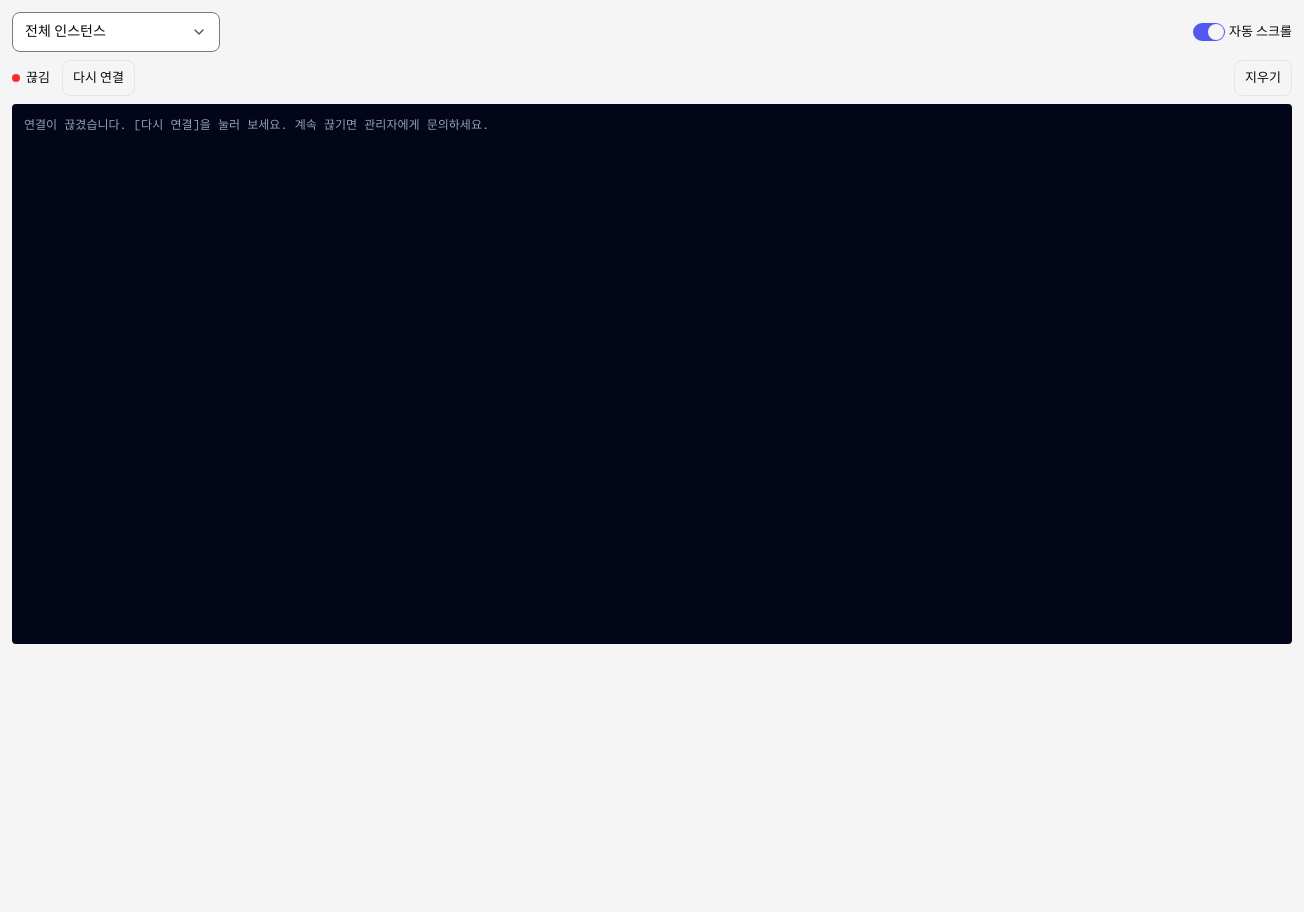
Test: LogsPanel reconnect › opens a fresh stream when the reader reconnects after a drop
Step 1. Click the button "다시 연결" → (98, 78), box [62, 60, 135, 96]
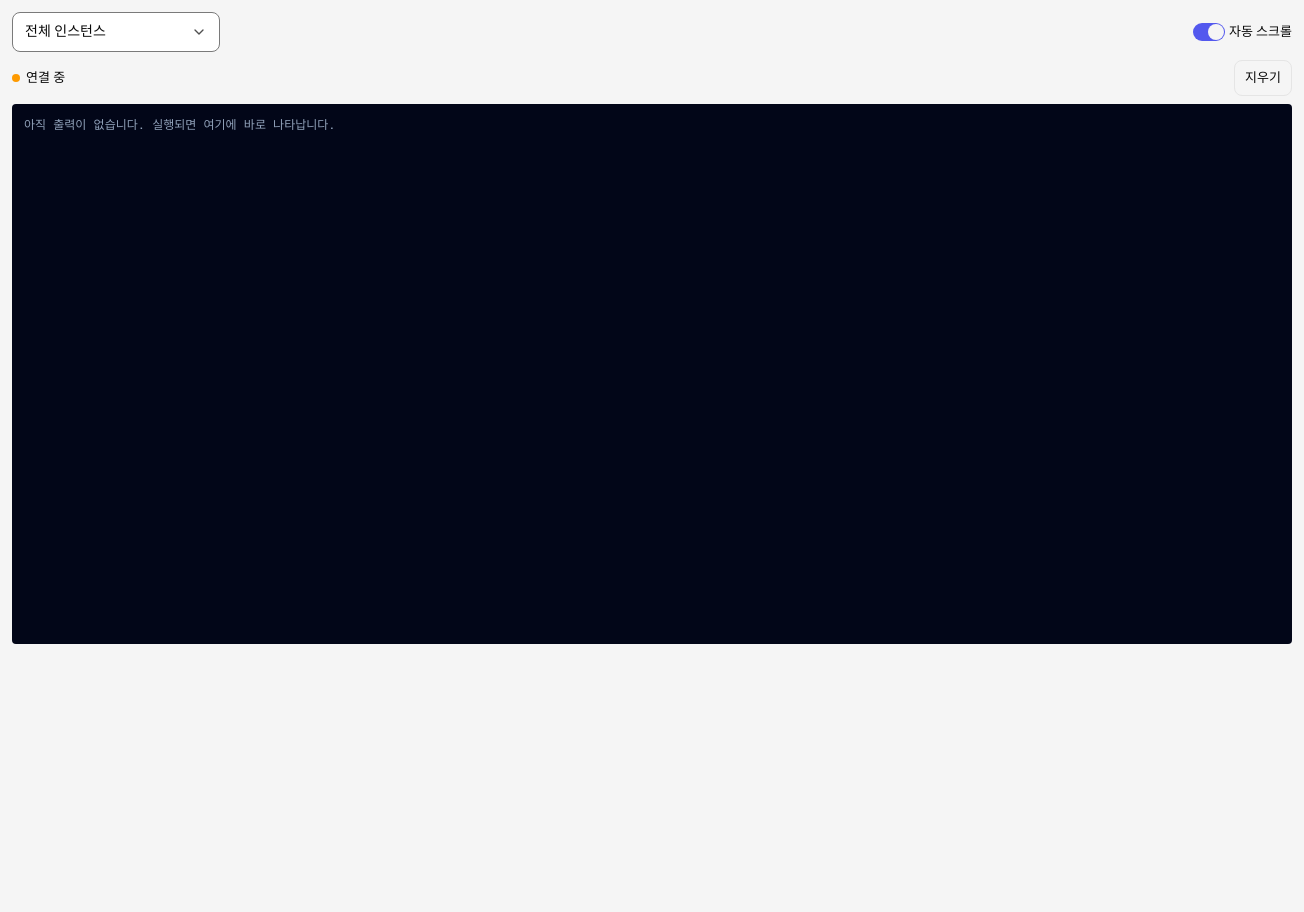
Now the text "연결 중" is shown, box [26, 68, 65, 88]
